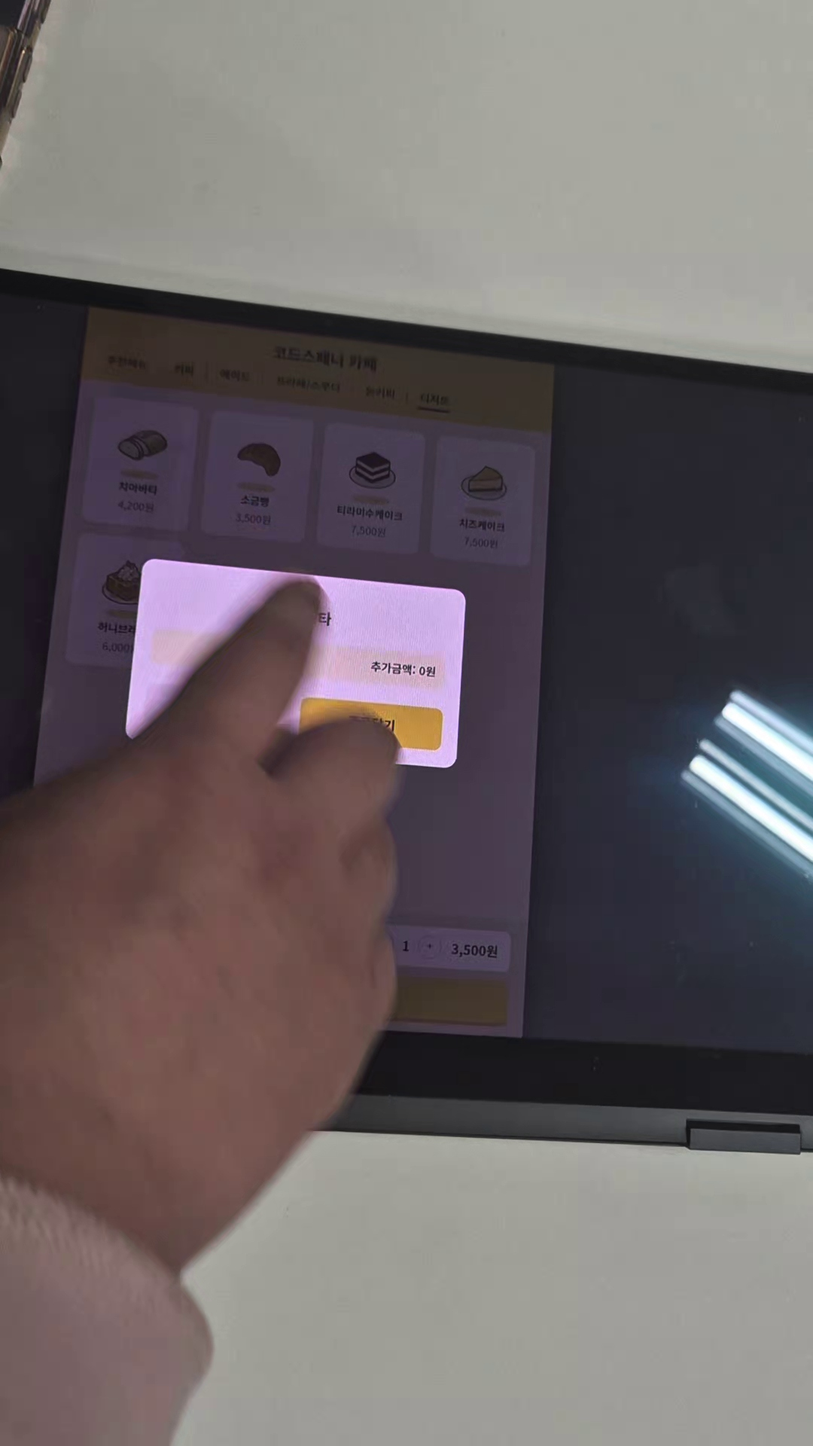action_button: (302, 696, 440, 749)
popup_modal: (130, 558, 463, 761)
